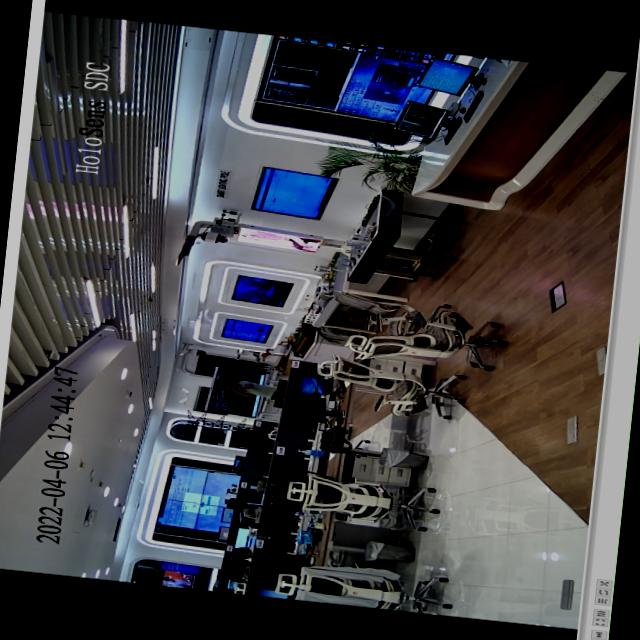long weapon: (233, 379, 250, 394)
